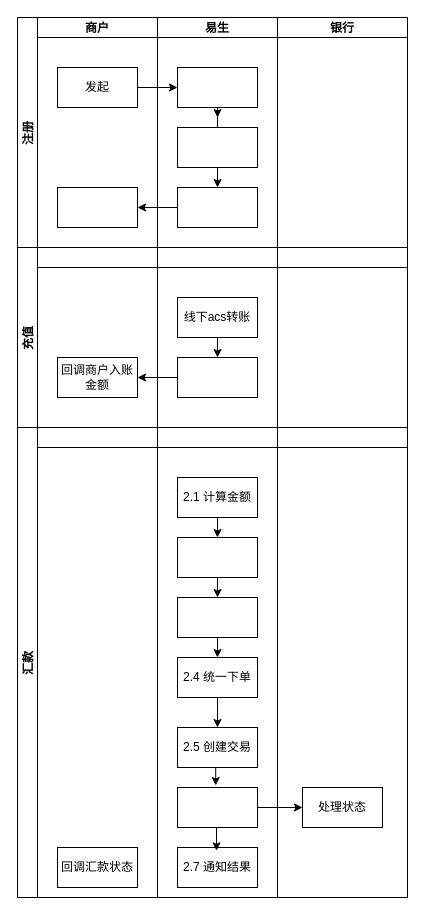
This 425x915 diagram has some shape labels left out. Each missing label, with the centre of its shape:
1.1、用户注册: point (217, 147)
1.2、用户认证: point (217, 207)
2.2 上传订单: point (217, 557)
2.3 提交资料: point (217, 617)
2.6 查询结果: point (217, 807)
3.2、通知充值结果: point (217, 377)
4.2获取token: point (217, 87)
商户激活完成: point (97, 207)
